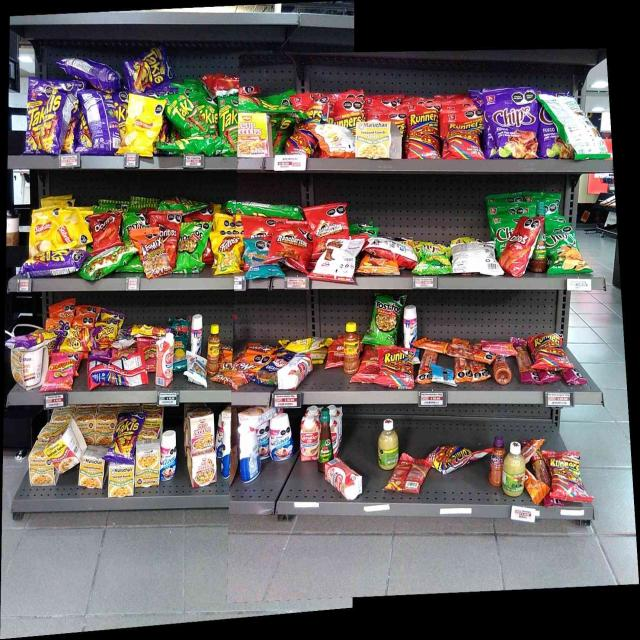bitzAlmendras: (434, 364, 454, 386)
bitzEnchilado90: (359, 347, 378, 382)
bitzEnchilado95: (433, 342, 478, 358), (457, 364, 488, 383), (526, 475, 545, 506), (420, 352, 430, 383)
bitzHabanero: (518, 338, 530, 382)
bokadosCacahuates: (264, 356, 285, 374)
botaneraChilito: (345, 322, 358, 371), (210, 324, 219, 374)
cheetosFlaminHot: (58, 330, 92, 352), (94, 322, 113, 358), (12, 332, 52, 346)
chipsFuego: (492, 90, 535, 159), (539, 110, 557, 156)
chipsJalapeno: (550, 220, 580, 274)
chipsPapatinas: (417, 240, 449, 274)
churrumais: (49, 356, 72, 390)
delPrimoSalsa: (504, 441, 522, 496), (377, 420, 397, 468)
doritosNacho: (509, 226, 531, 276), (90, 213, 118, 246), (165, 221, 178, 259)
fritosLimon: (212, 233, 240, 273)
hotNutsOriginal: (361, 262, 398, 280)
leoCacahuates: (188, 356, 207, 387)
leoMix: (138, 230, 162, 275), (233, 347, 257, 380), (220, 350, 232, 386)
maruchanPollo: (9, 349, 42, 387), (358, 124, 392, 159), (138, 444, 159, 486), (110, 467, 134, 497), (82, 458, 103, 490), (29, 460, 50, 487)
maruchanRes: (52, 440, 75, 472)
nestleCarnation: (333, 459, 359, 498), (287, 353, 313, 388), (301, 418, 318, 461), (158, 340, 174, 384)
nestleLechera: (240, 433, 258, 479), (271, 419, 290, 459), (161, 432, 176, 479), (191, 313, 202, 351), (404, 306, 416, 340)
nissinCamaron: (239, 113, 271, 158)
nissinRes: (192, 414, 214, 452), (192, 456, 216, 486)
productoAtras: (560, 95, 602, 158), (61, 55, 119, 86), (89, 92, 114, 151), (453, 241, 493, 277), (87, 362, 144, 387), (324, 240, 355, 284), (90, 254, 132, 280), (316, 124, 349, 157), (369, 234, 411, 257), (399, 456, 422, 494)
rancheritos: (274, 221, 308, 262), (312, 206, 347, 235), (245, 216, 271, 239)
runners: (442, 110, 482, 160), (408, 109, 438, 159), (380, 348, 413, 388), (553, 452, 580, 500), (433, 445, 470, 472), (536, 335, 562, 367), (332, 95, 361, 122), (291, 127, 310, 154)
sabritasOriginal: (129, 94, 154, 154), (32, 209, 49, 254), (54, 222, 84, 246)
salsaBufalo: (320, 413, 330, 461), (535, 237, 547, 272)
semillasCalabaza: (281, 337, 326, 350)
semillasGirasol: (244, 243, 266, 279), (176, 331, 186, 370)
tajinDulce: (491, 436, 502, 486)
takisFuego: (132, 46, 166, 90), (26, 256, 80, 279), (45, 92, 63, 155), (28, 77, 43, 151), (116, 415, 136, 463)
takisOriginal: (170, 93, 206, 135), (219, 99, 238, 154)
tostitos: (374, 297, 399, 345), (182, 223, 204, 272)
